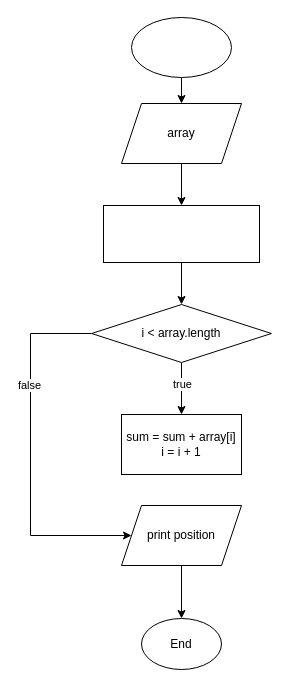
Image size: 289x687. Some labels were removed from this diagram. Here are the shapes that lost their labels. From the top down, the centre of each, then its label:
At point 181,47: "Start".
At point 181,233: "sum = 0 i = 0".
